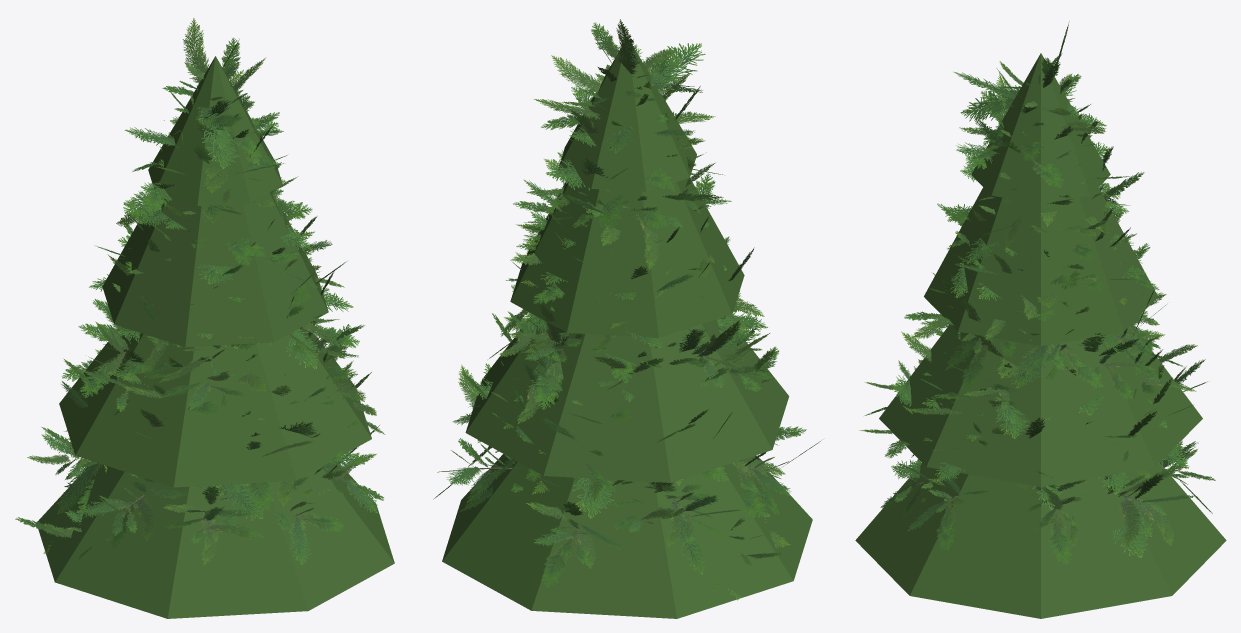
Rendered from firs.glb.
3 views of the same model, side by side, from view 1: azimuth 30°, elevation 25°; view 2: azimuth 150°, elevation 25°; view 3: azimuth 270°, elevation 25° (orthographic). The views are drawn at different scales.
Visible parts, largest first — view 1: tall-3-leaf, tall-2-leaf, tall-1-leaf, tall-0-leaf; view 2: tall-3-leaf, tall-2-leaf, tall-1-leaf, tall-0-leaf; view 3: tall-3-leaf, tall-2-leaf, tall-1-leaf, tall-0-leaf.
Boxes of the visible parts, box(x1,y1,x2,y2) form: tall-3-leaf: box(37, 56, 394, 618); tall-2-leaf: box(15, 18, 385, 560); tall-1-leaf: box(33, 39, 377, 565); tall-0-leaf: box(46, 54, 368, 549); tall-3-leaf: box(442, 39, 812, 618); tall-2-leaf: box(437, 19, 821, 600); tall-1-leaf: box(433, 22, 799, 570); tall-0-leaf: box(444, 36, 794, 564); tall-3-leaf: box(855, 53, 1226, 618); tall-2-leaf: box(859, 21, 1212, 563); tall-1-leaf: box(880, 49, 1215, 545); tall-0-leaf: box(888, 53, 1204, 532).
Bounding box in the file's own units: 7.26 × 10.77 × 6.79.
Materials: 4 (2 with a texture image).
